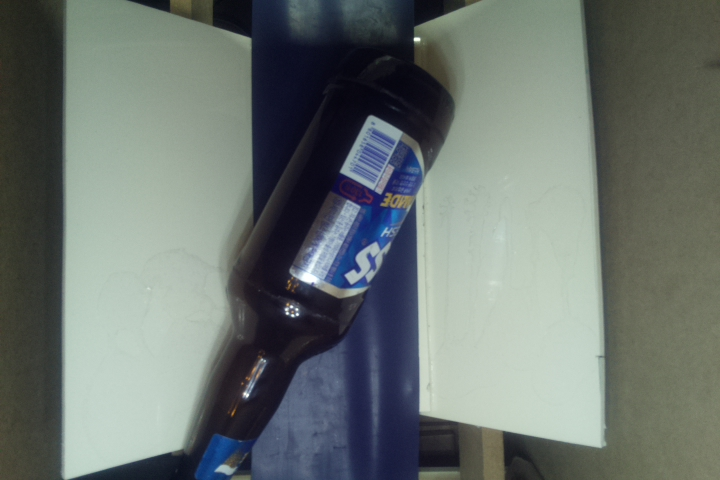makju: (172, 50, 459, 480)
